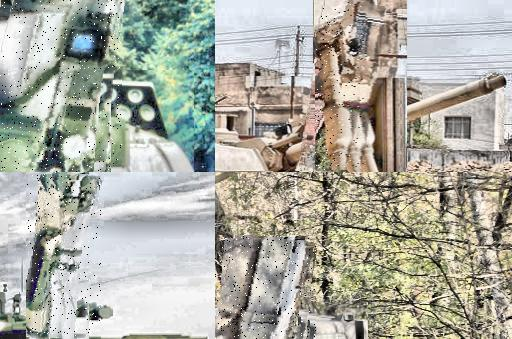tanks: (1, 1, 119, 173), (28, 174, 102, 339), (216, 237, 317, 339), (317, 1, 365, 171)
